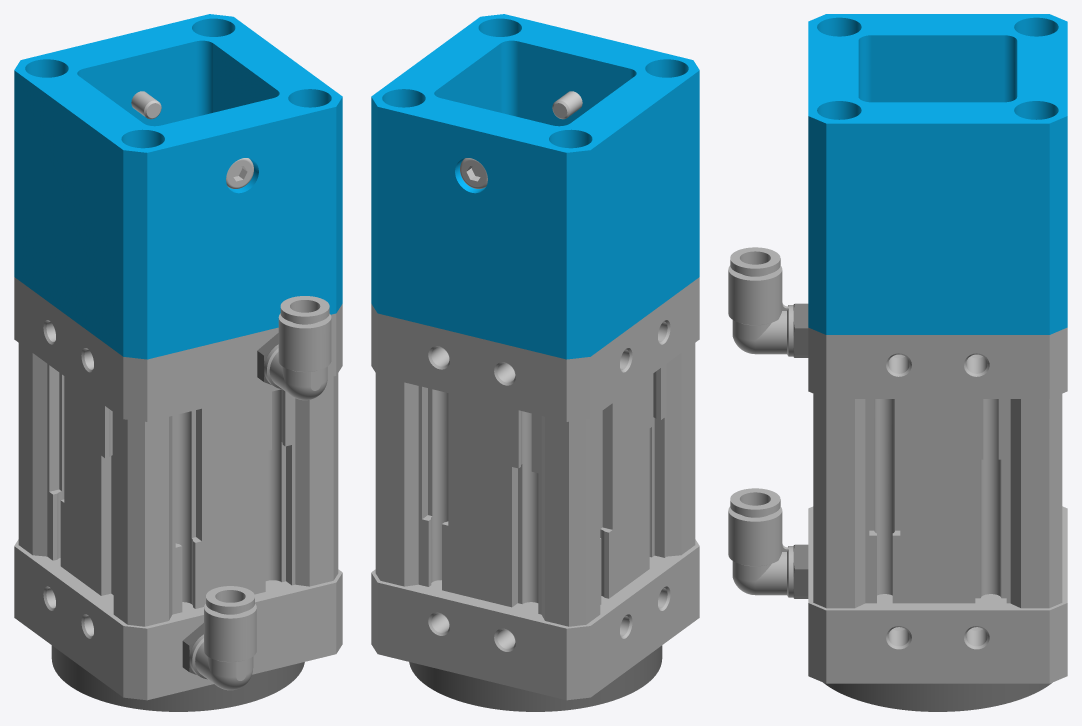
The model's file is Assembly_SMC_EE_Part_Bottom.obj.
The picture shows the model from 3 angles, left to right: view 1: azimuth 30°, elevation 25°; view 2: azimuth 150°, elevation 25°; view 3: azimuth 270°, elevation 25°; orthographic projection. The views are drawn at different scales.
Visible parts, largest first — view 1: Solid1:2, Solid2, Solid1:8, Solid1:9, Solid1:1, Solid1:4, Solid1; view 2: Solid1:2, Solid2, Solid1:1, Solid1, Solid1:4; view 3: Solid1:2, Solid2, Solid1:9, Solid1:8, Solid1:1.
Part boxes in pixels (x1=…): Solid1:2: x1=14, y1=277, x2=342, y2=700; Solid2: x1=14, y1=14, x2=342, y2=359; Solid1:8: x1=257, y1=296, x2=331, y2=400; Solid1:9: x1=182, y1=586, x2=256, y2=690; Solid1:1: x1=51, y1=645, x2=304, y2=711; Solid1:4: x1=226, y1=158, x2=253, y2=188; Solid1: x1=131, y1=91, x2=161, y2=119; Solid1:2: x1=371, y1=277, x2=699, y2=700; Solid2: x1=371, y1=14, x2=699, y2=359; Solid1:1: x1=409, y1=645, x2=662, y2=711; Solid1: x1=460, y1=158, x2=487, y2=188; Solid1:4: x1=552, y1=91, x2=582, y2=119; Solid1:2: x1=808, y1=327, x2=1067, y2=683; Solid2: x1=808, y1=14, x2=1067, y2=334; Solid1:9: x1=728, y1=488, x2=808, y2=598; Solid1:8: x1=728, y1=247, x2=808, y2=357; Solid1:1: x1=823, y1=682, x2=1052, y2=711.
Bounding box in the file's own units: 50 × 125 × 65.39.
